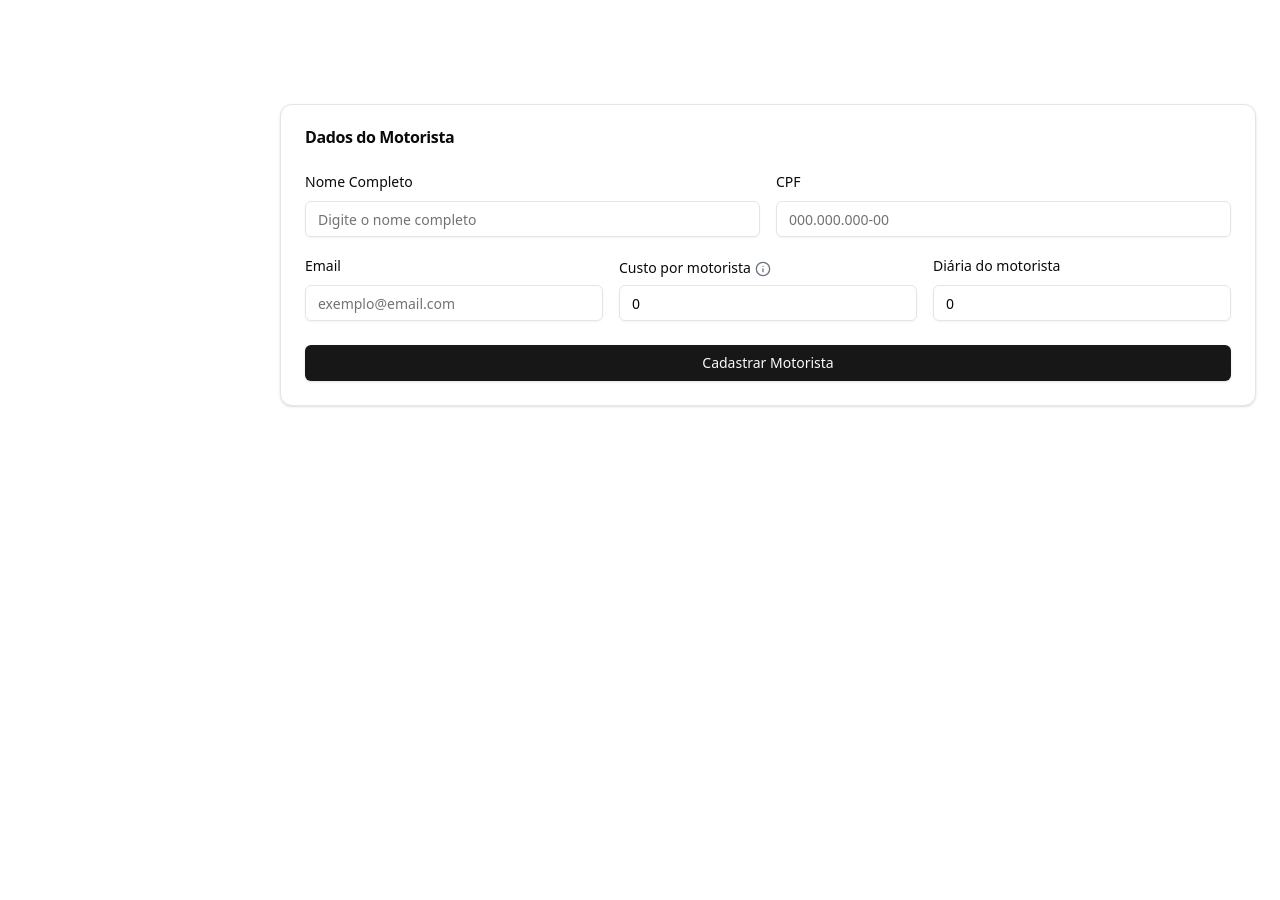
Test: DriverRegistrationForm › mostra erro se CPF for inválido
In the field labelled "Nome Completo": (532, 219) [305,201,760,237], type "João"
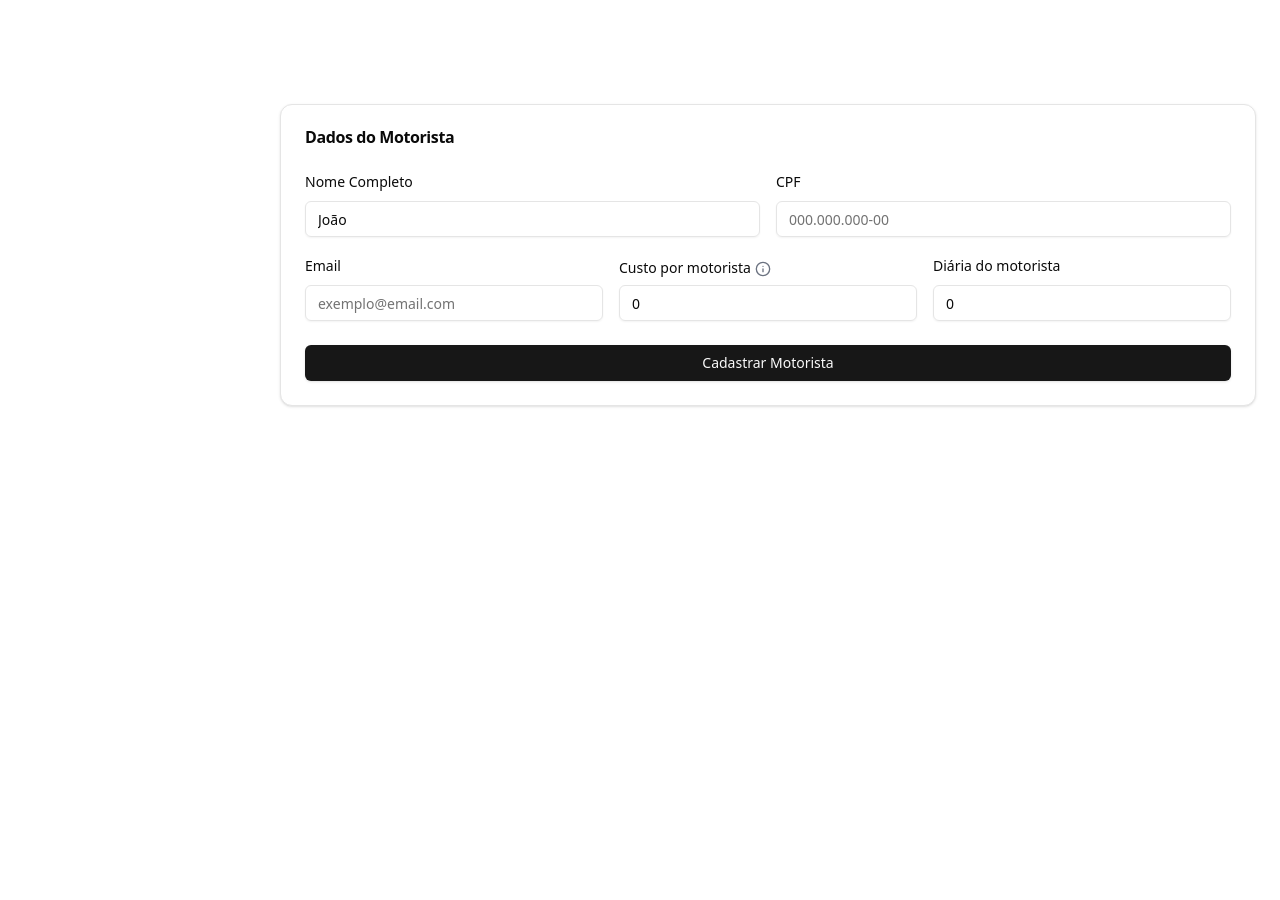
In the field labelled "CPF": (1004, 219) [776,201,1231,237], type "123"
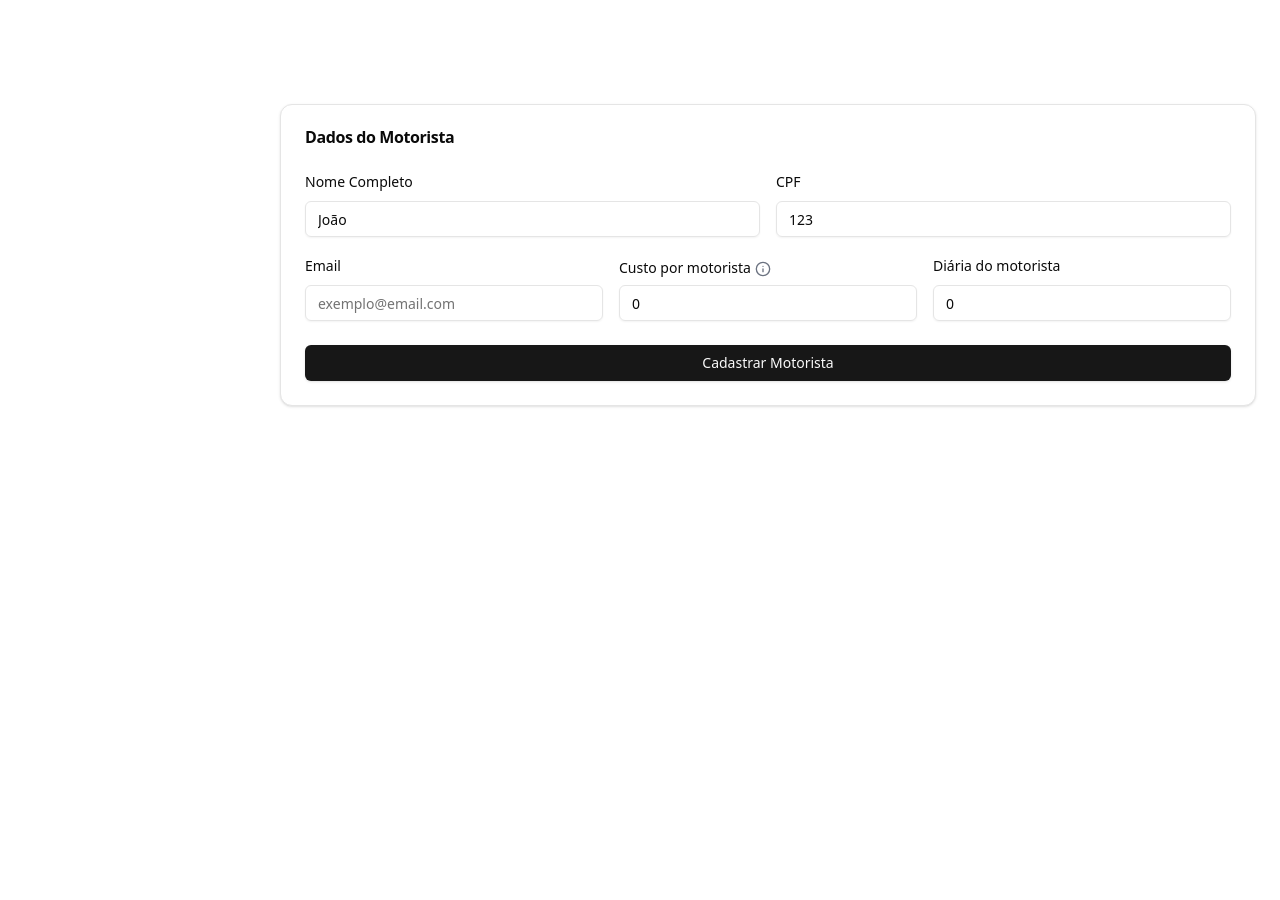
Click the button "Cadastrar Motorista": (768, 363) [305,345,1231,381]
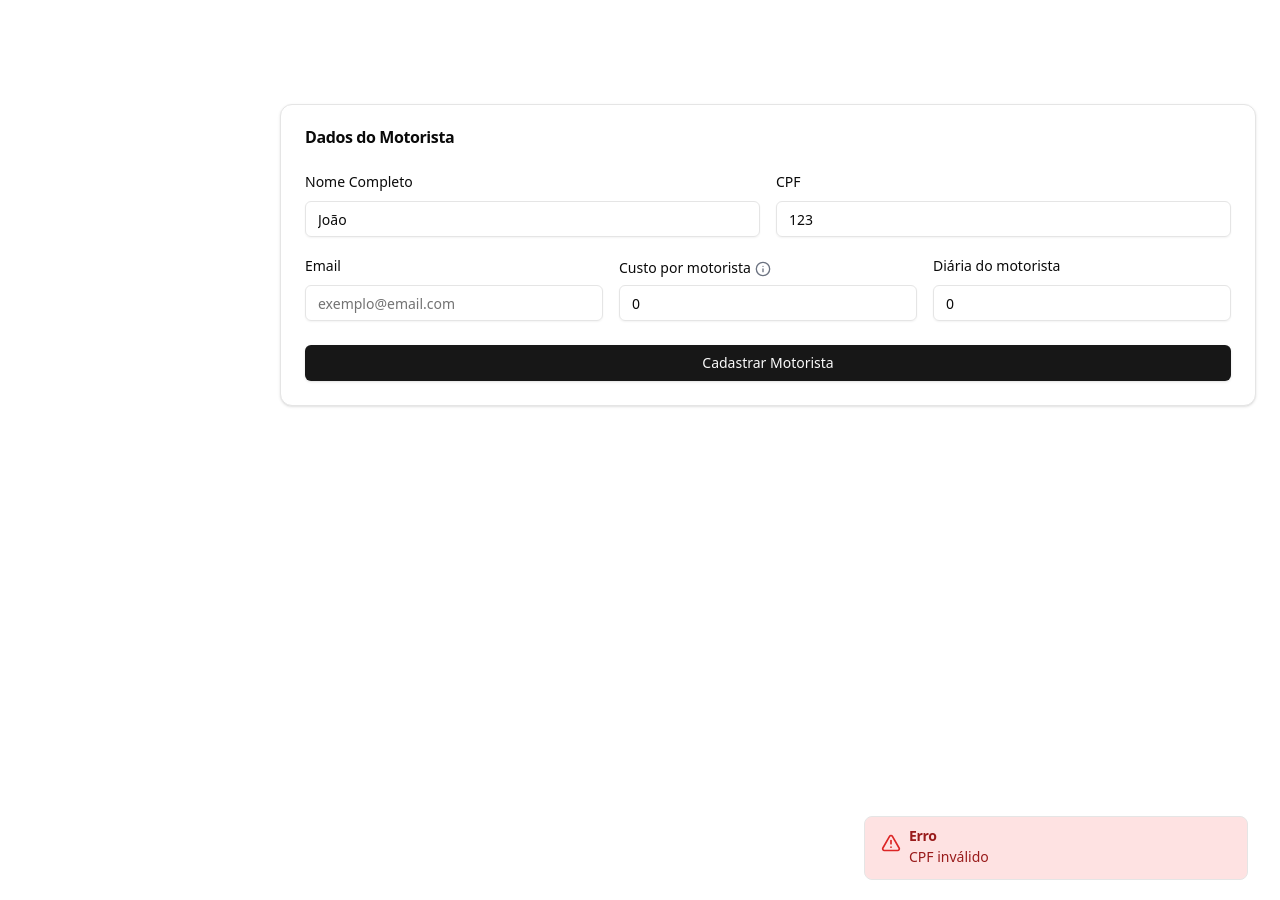
Expected: the text "CPF inválido" is shown, [909,847,989,866]
